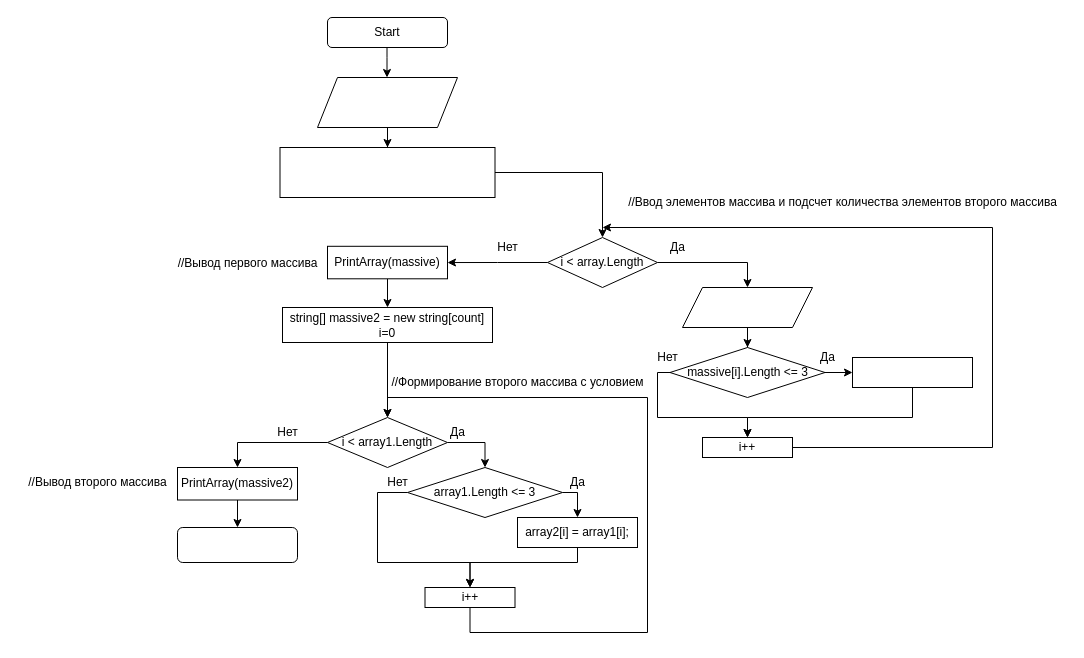
This 1084x658 diagram has some shape labels left out. Here are the shapes that lost their labels. From the top down, the centre of each, then its label:
At (x=387, y=102): "Ввод количества элементов".
At (x=387, y=172): "int count = 0 string[] massive = new string[lenght] i=0".
At (x=747, y=307): "Ввод элементов массива".
At (x=912, y=372): "count++".
At (x=237, y=544): "Finish".
